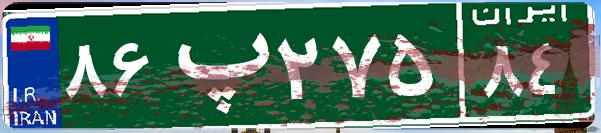2: (273, 28, 330, 110)
4: (525, 38, 570, 115)
5: (385, 28, 445, 110)
6: (110, 28, 158, 105)
7: (330, 28, 385, 110)
8: (57, 26, 110, 107), (475, 38, 525, 113)
پ: (158, 15, 273, 115)
